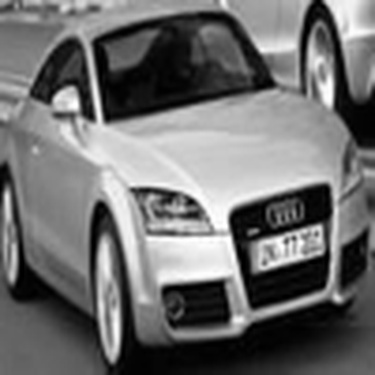car: (1, 6, 371, 371), (196, 1, 373, 119)
